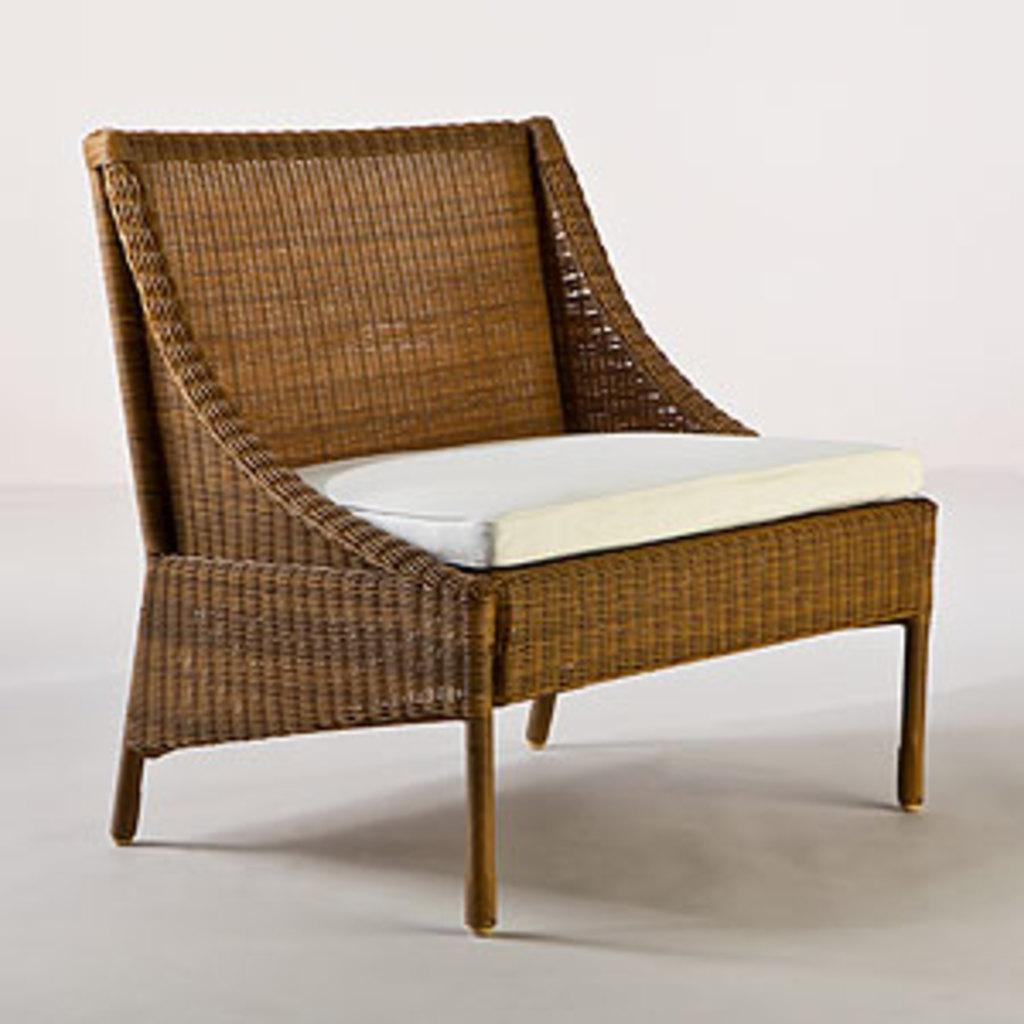Chair: (82, 109, 945, 949)
